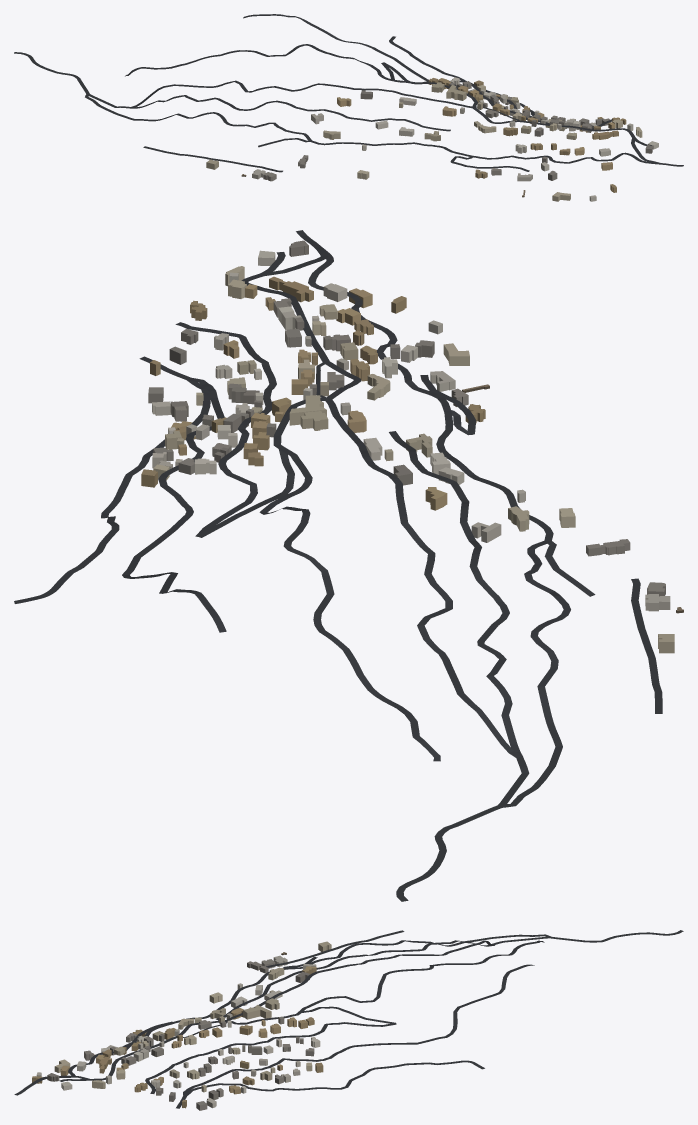
The model's file is tile_6_0.glb.
3 renders of one model, top to bottom at view 1: azimuth 30°, elevation 25°; view 2: azimuth 150°, elevation 25°; view 3: azimuth 270°, elevation 25°, orthographic. The views are drawn at different scales.
Parts seen in each view (by area): view 1: road_6_0, bld_6_0; view 2: road_6_0, bld_6_0; view 3: bld_6_0, road_6_0.
Part boxes in pixels (bbox=[...]): road_6_0: bbox=[14, 14, 683, 172]; bld_6_0: bbox=[206, 77, 658, 201]; road_6_0: bbox=[14, 230, 662, 901]; bld_6_0: bbox=[141, 240, 674, 653]; bld_6_0: bbox=[32, 941, 331, 1110]; road_6_0: bbox=[14, 930, 683, 1108].
Bounding box in the file's own units: 823 × 114 × 1202.
